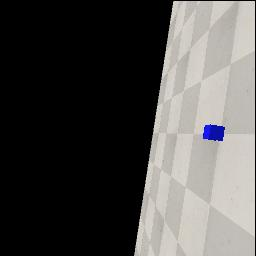box: (203, 124, 225, 141)
